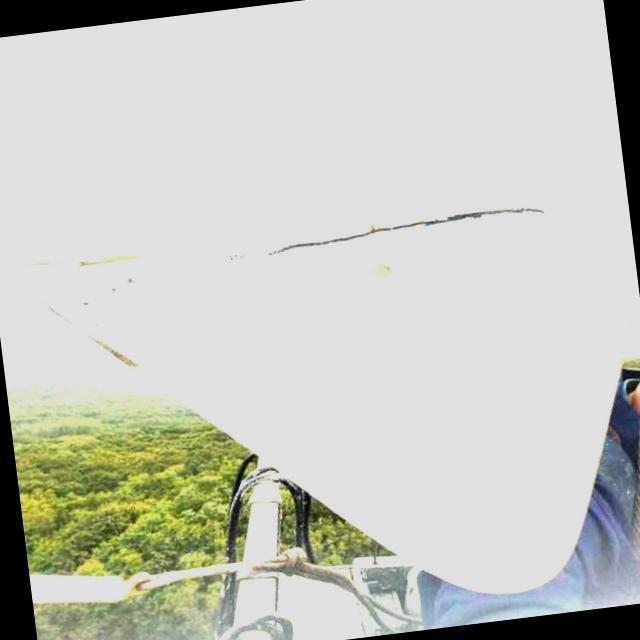crack: (264, 199, 546, 258)
